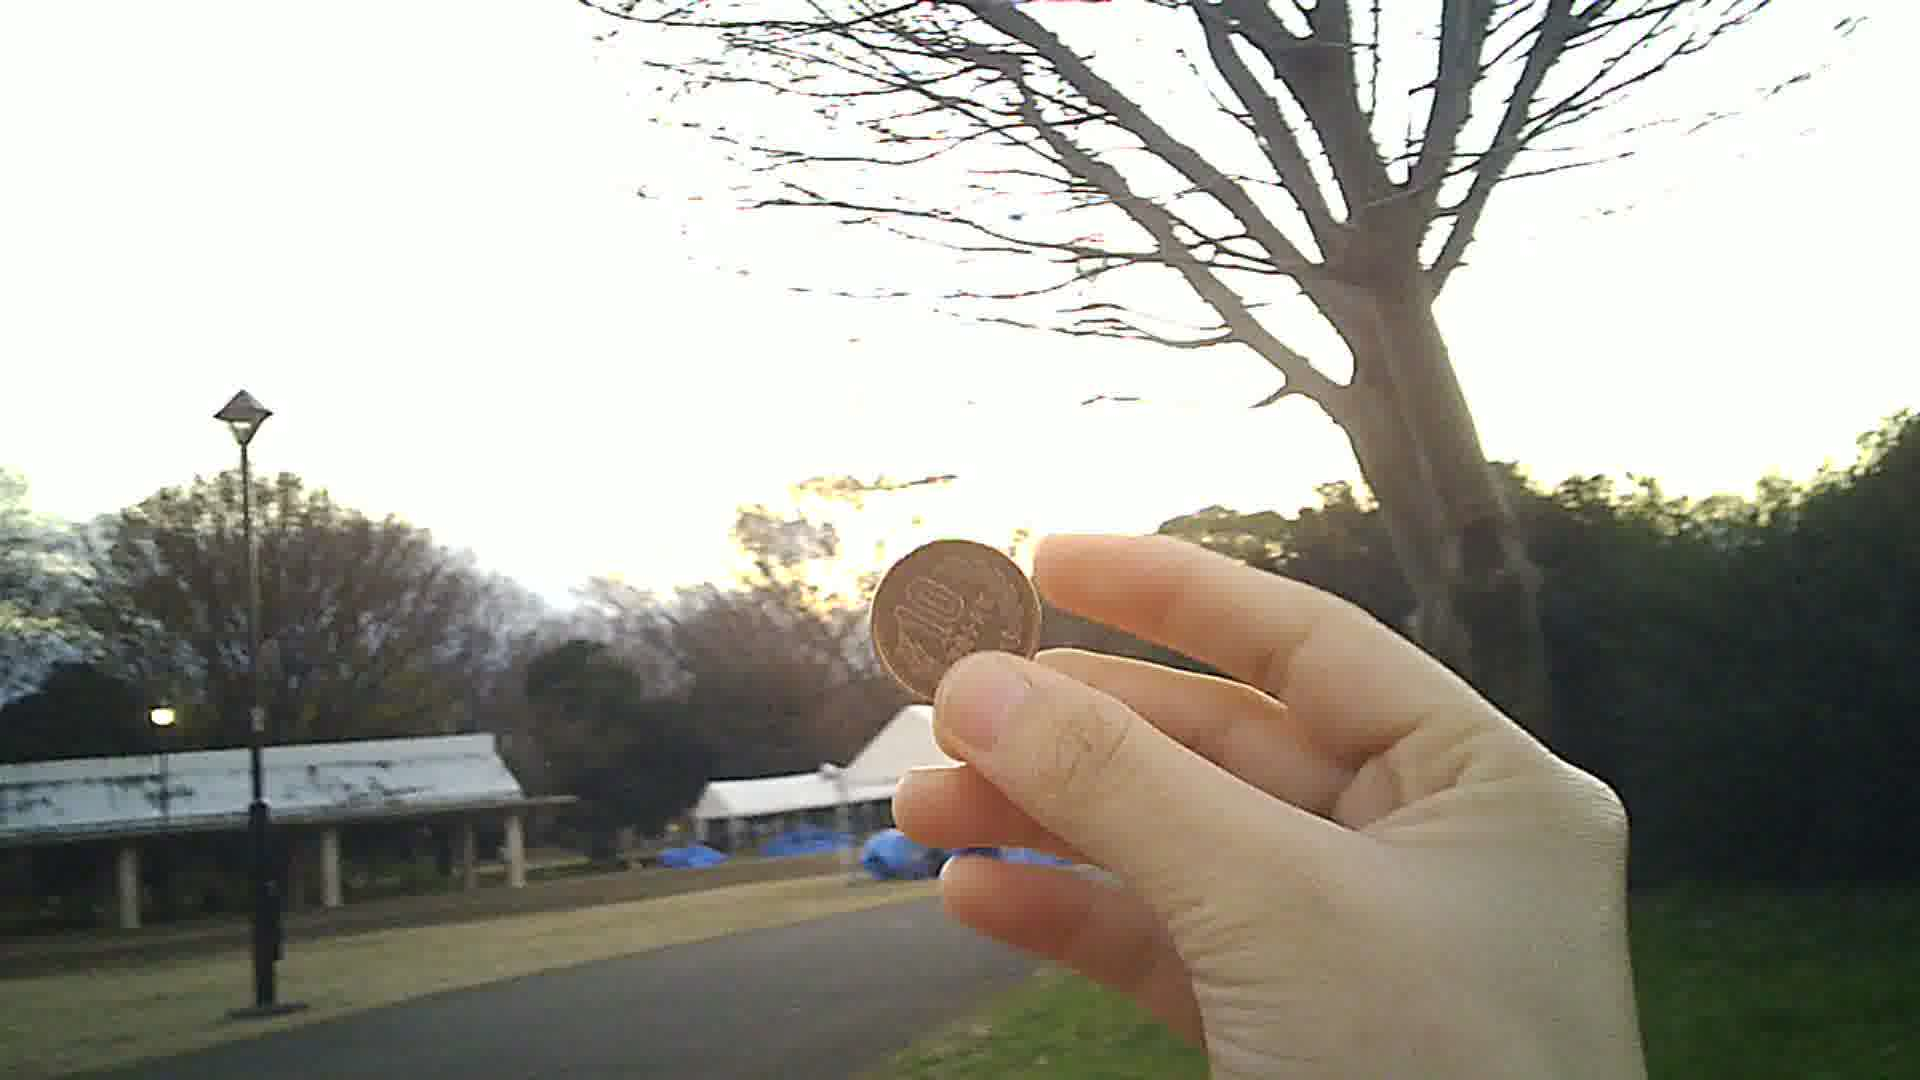10 Yen: (866, 539, 1042, 709)
